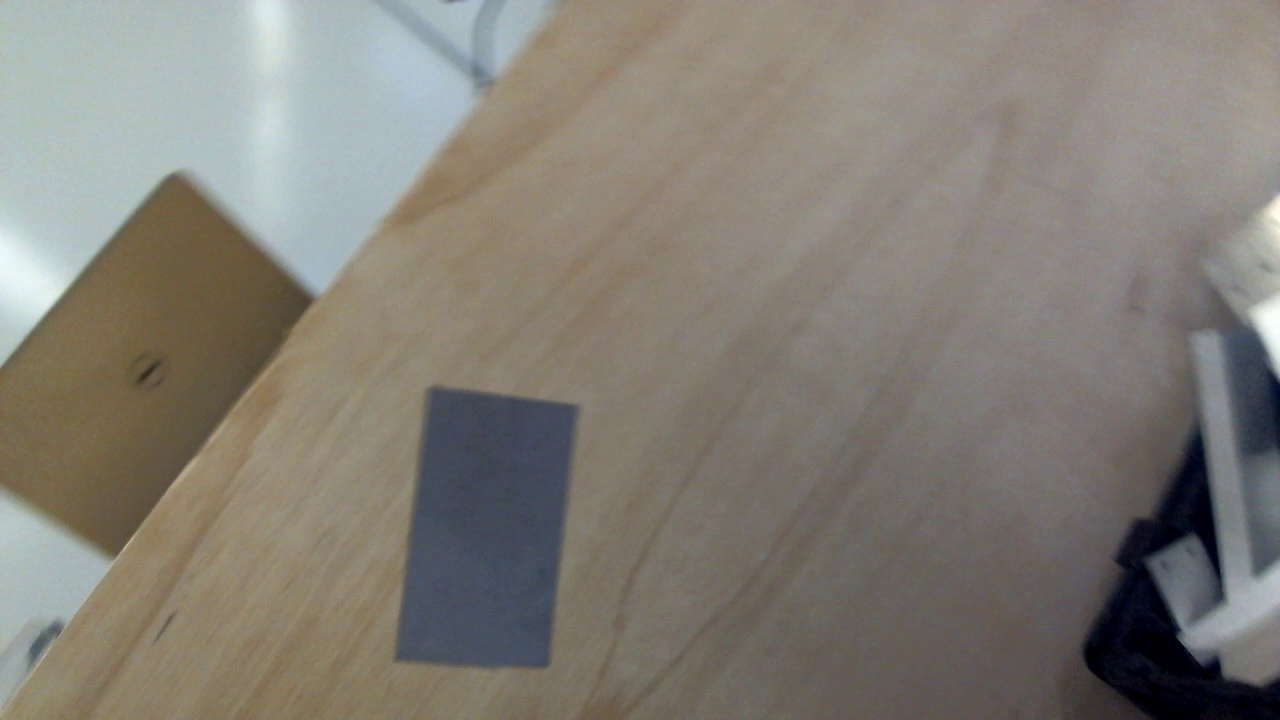Tape: (396, 387, 579, 667)
